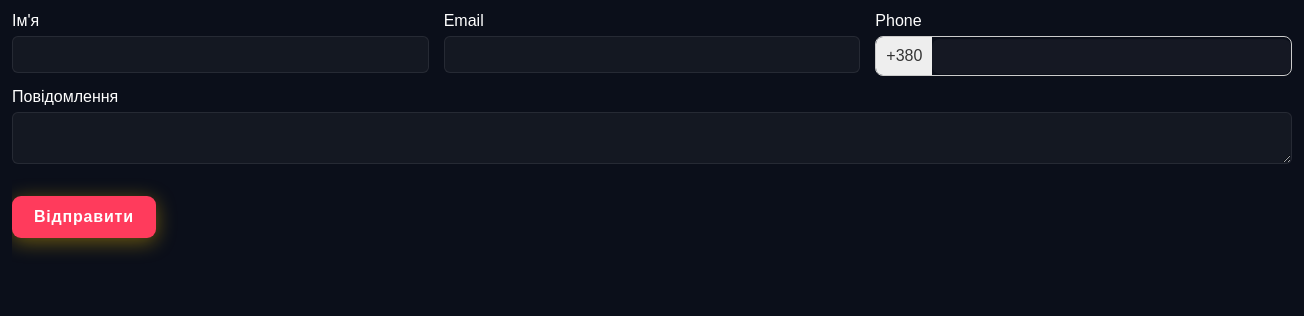
ContactForm › Message validation should work
The width and height of the screenshot is (1304, 316).
Type "hey" into the text box labelled "Повідомлення" at (652, 138), box [12,112,1292,164]
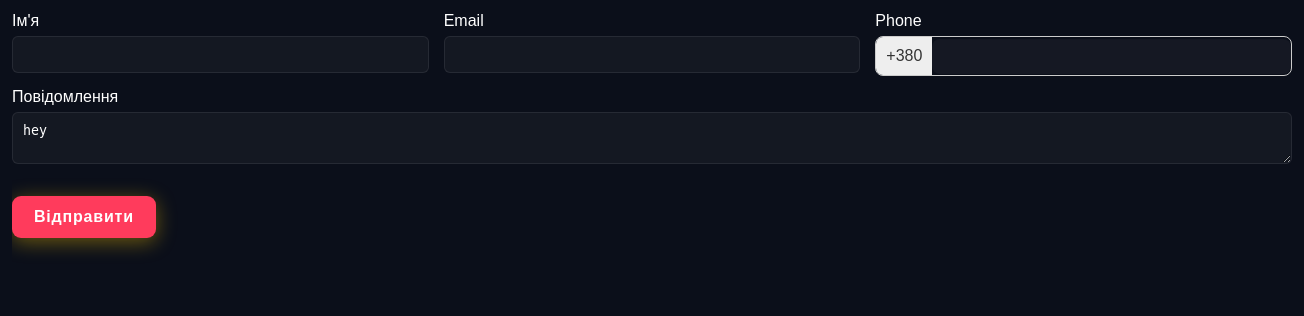
Leave the text box labelled "Повідомлення", box [12,112,1292,164]
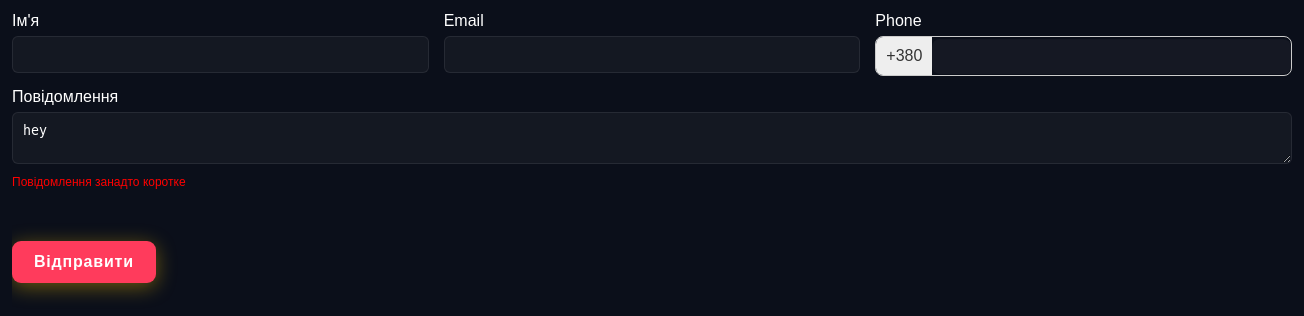
Check: the text "Повідомлення занадто коротке" is shown, box [12,175,186,189]
